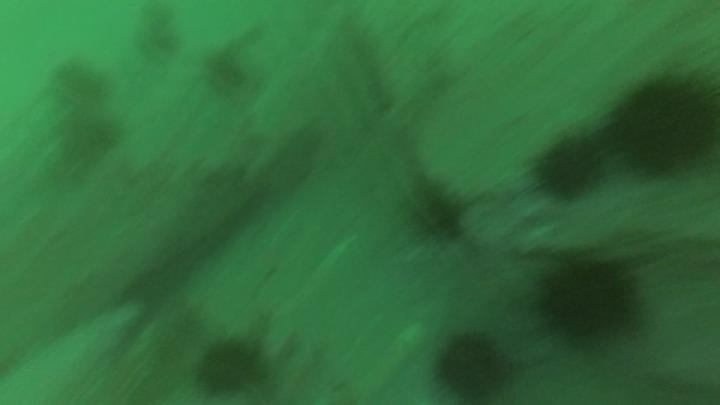echinus: (608, 70, 719, 179), (536, 254, 642, 345), (430, 329, 513, 403), (530, 131, 605, 201), (193, 335, 267, 398), (406, 177, 470, 245), (57, 109, 120, 164), (48, 58, 110, 110), (202, 48, 249, 96)
